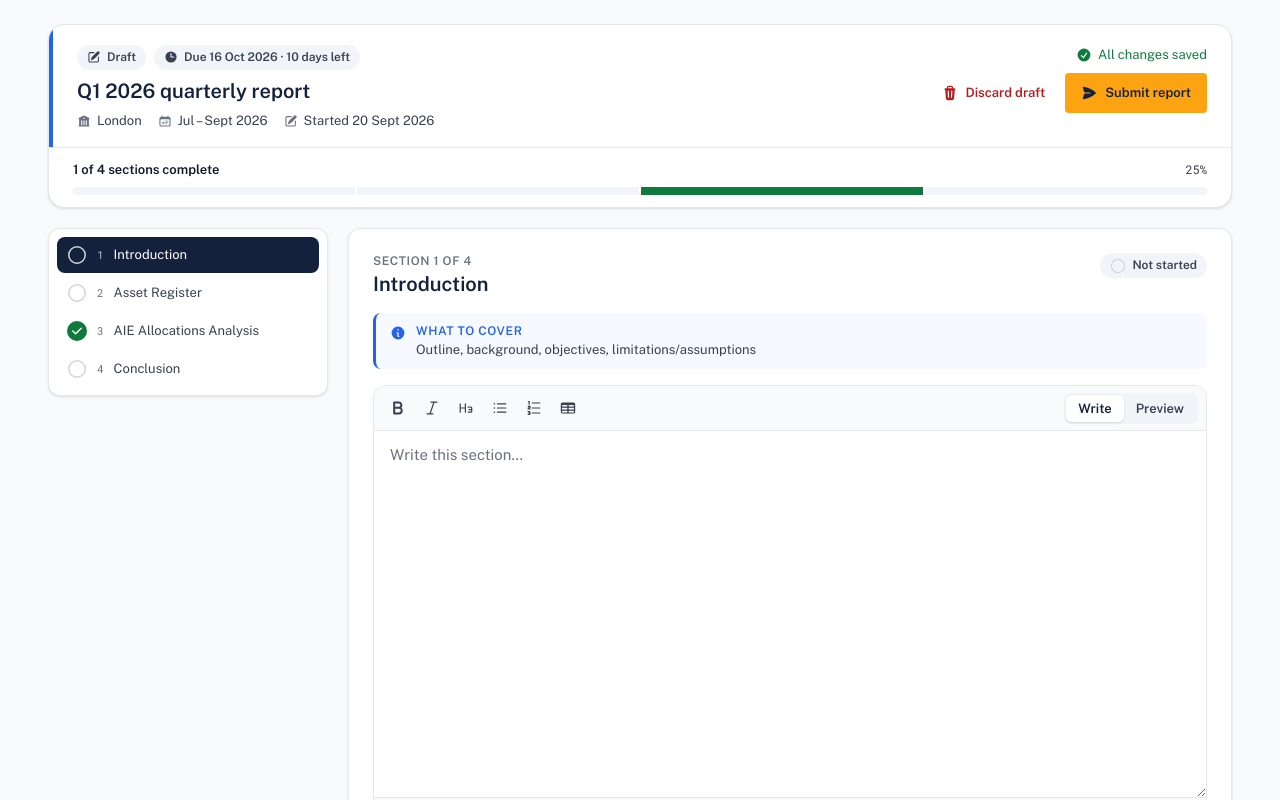
ReportFormPage — the attache editor › TC-FR-RPT-013: shows each section's completion and updates the progress as the attache writes
The width and height of the screenshot is (1280, 800).
Check: the text with test id "report-progress" reads "1 of 4 sections complete", box left=73, top=162, right=220, bottom=177
Check: the button "1 Introduction" is shown, box left=57, top=237, right=319, bottom=273
Type "Written" into the text box labelled "Introduction" at (790, 614), box left=374, top=431, right=1206, bottom=797
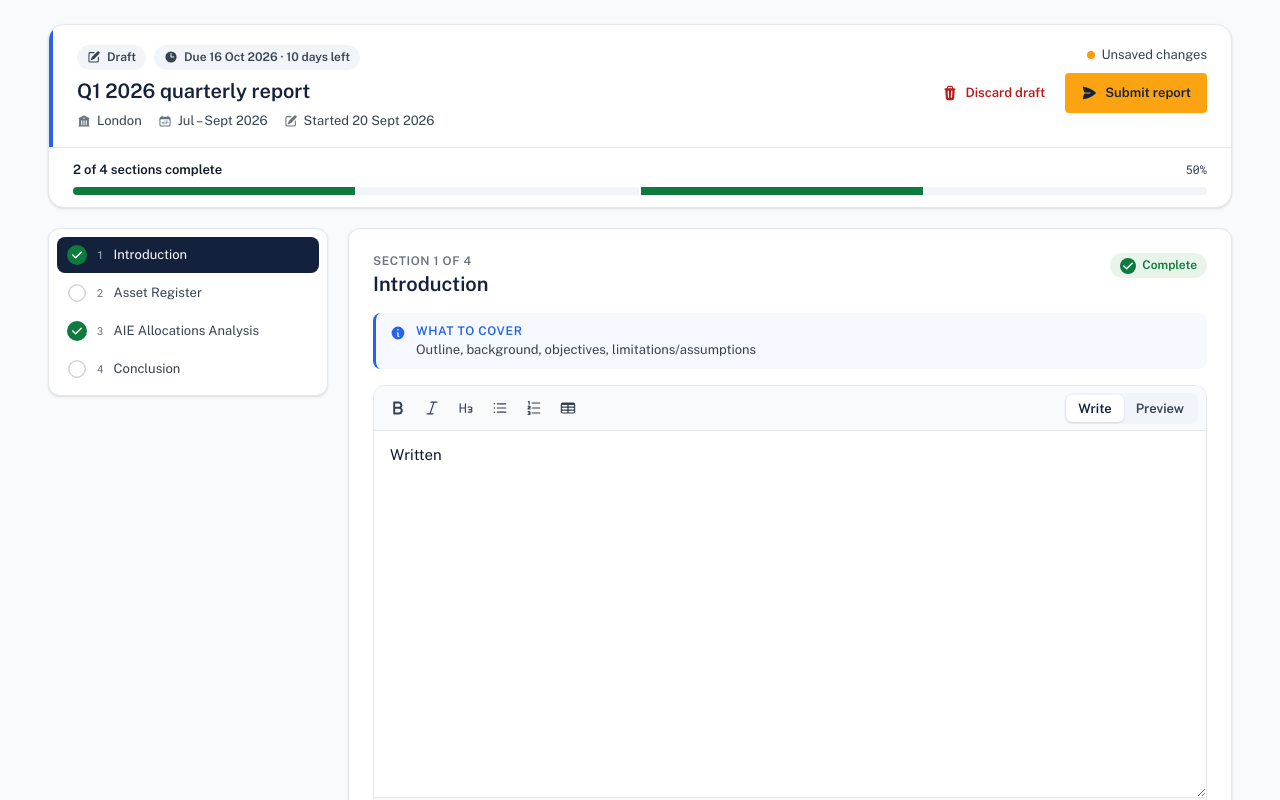
Check: the text with test id "report-progress" reads "2 of 4 sections complete", box left=73, top=162, right=222, bottom=177
